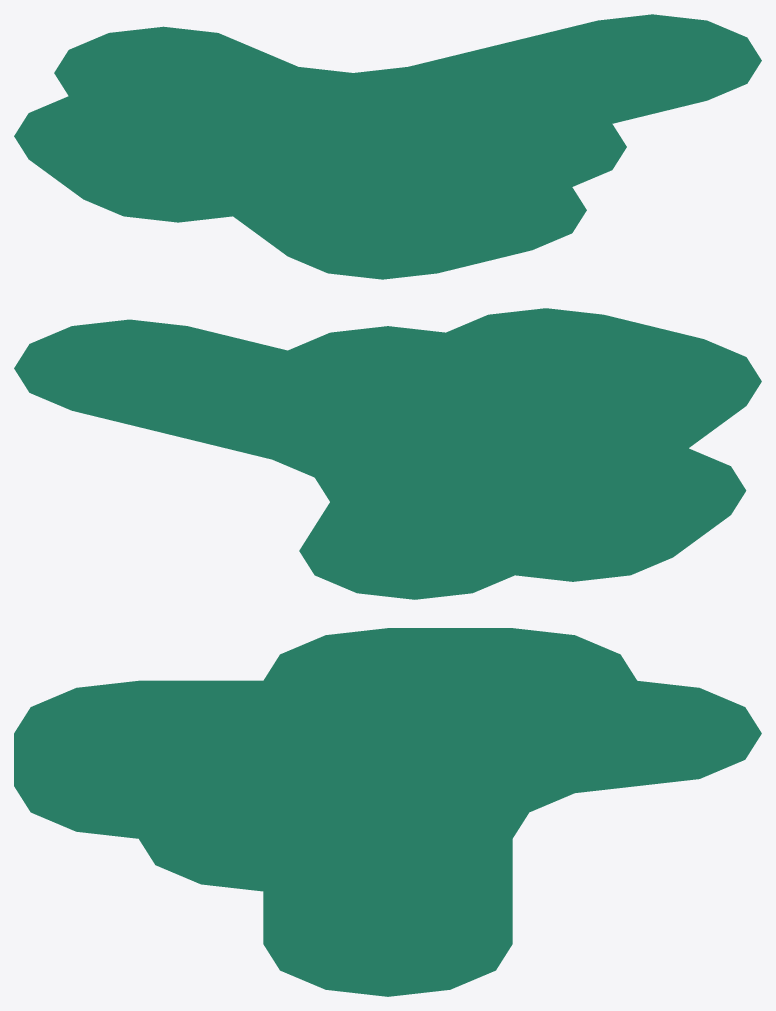
File: patch-grass-large.glb
3 views of the same model, one above another, from view 1: azimuth 30°, elevation 25°; view 2: azimuth 150°, elevation 25°; view 3: azimuth 270°, elevation 25° (orthographic). The views are drawn at different scales.
Parts seen in each view (by area): view 1: patch-grass-large; view 2: patch-grass-large; view 3: patch-grass-large.
Part boxes in pixels (bbox=[...]): patch-grass-large: bbox=[14, 14, 761, 279]; patch-grass-large: bbox=[14, 308, 761, 599]; patch-grass-large: bbox=[14, 628, 761, 996].
Size of the model in its own units: 1.4 by 0 by 1.2.
Materials: 1 (1 with a texture image).
